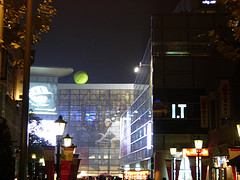tennis ball: (73, 68, 87, 84)
